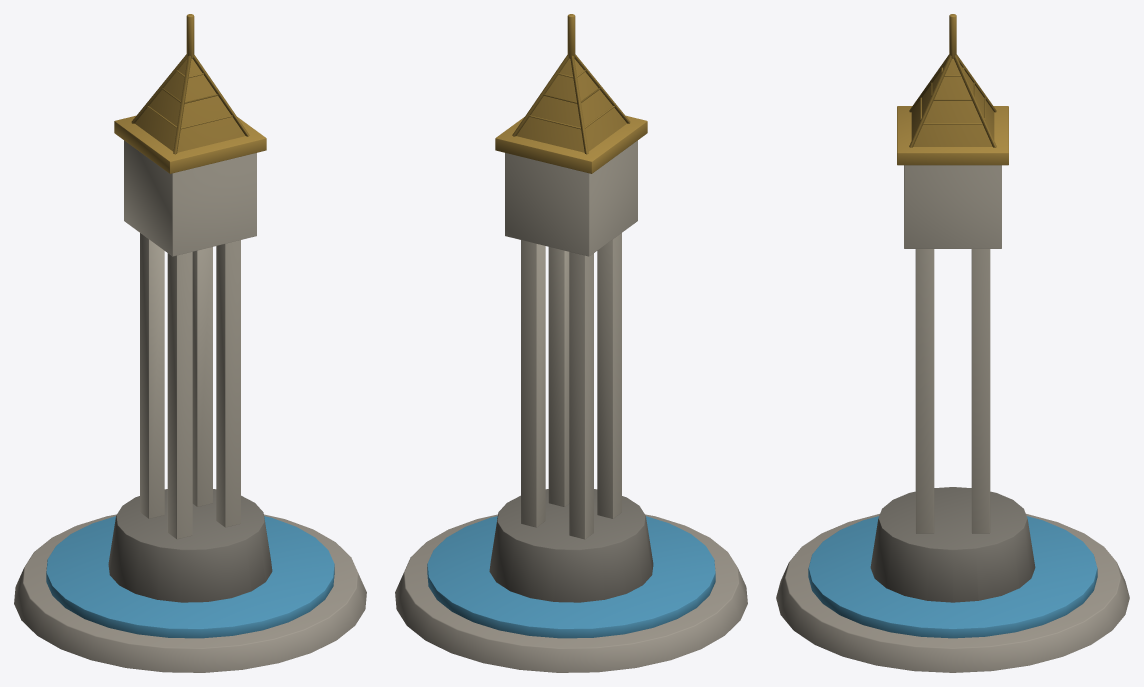
Rendered from lm-bnclock.glb.
3 views of the same model, side by side, from view 1: azimuth 30°, elevation 25°; view 2: azimuth 150°, elevation 25°; view 3: azimuth 270°, elevation 25° (orthographic).
Size of the model in its own units: 7.59 by 13.8 by 7.59.
